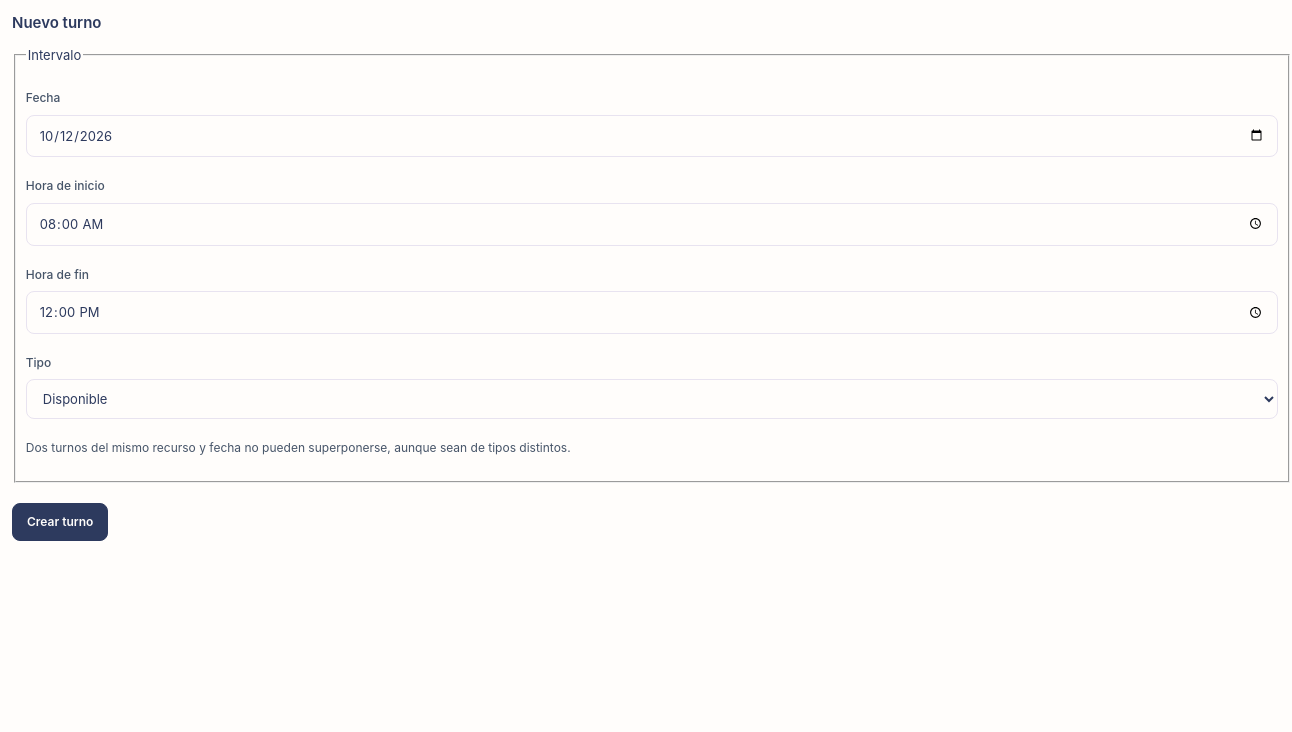
Test: Disponibilidad › explica un turno superpuesto y no repite el envío
Click the button "Crear turno" at (60, 522), box [12, 503, 108, 541]
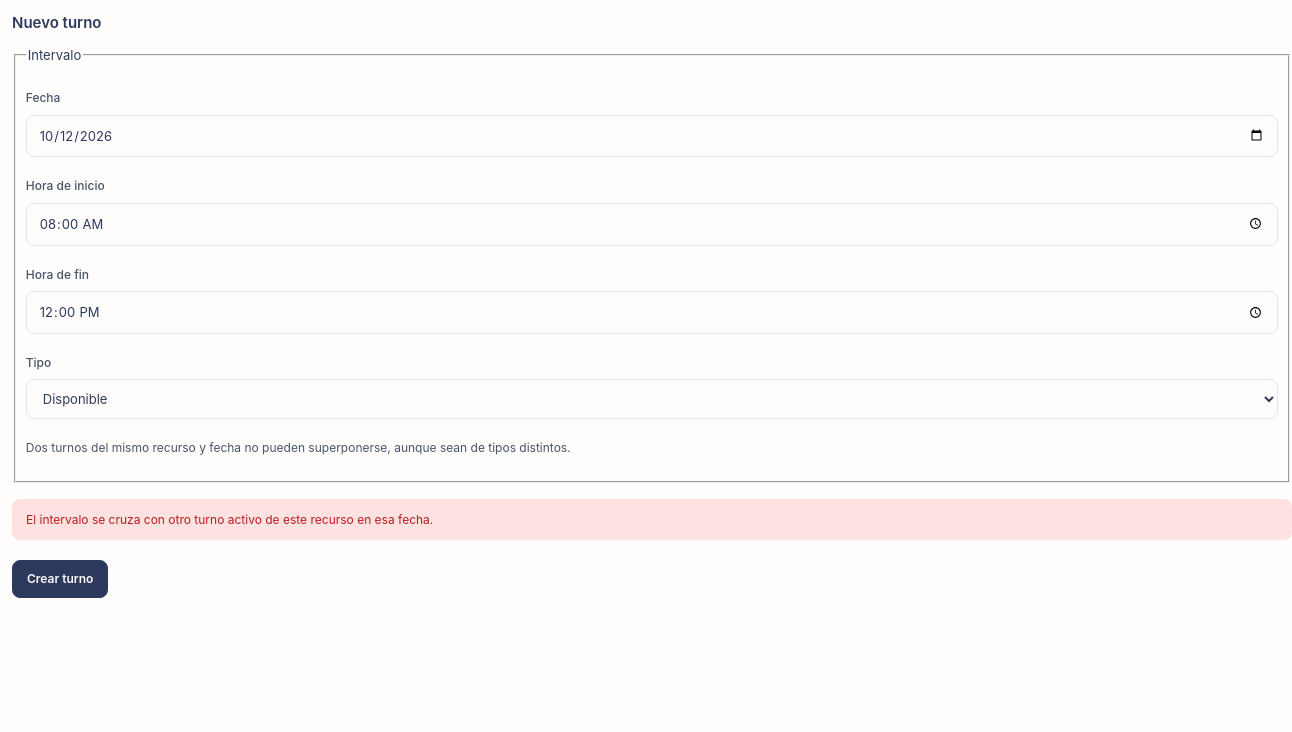
Now the message shows "se cruza", box [26, 512, 433, 527]
